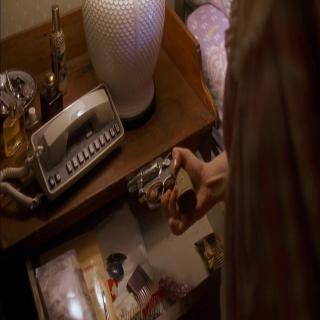gun: (125, 150, 199, 218)
